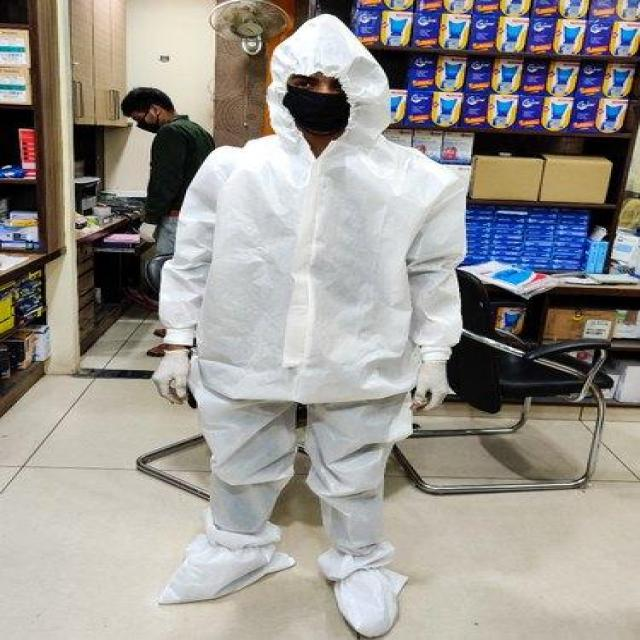Coverall: (145, 13, 471, 640)
Gloves: (151, 348, 202, 405), (413, 360, 449, 410)
Mask: (280, 82, 357, 137)
